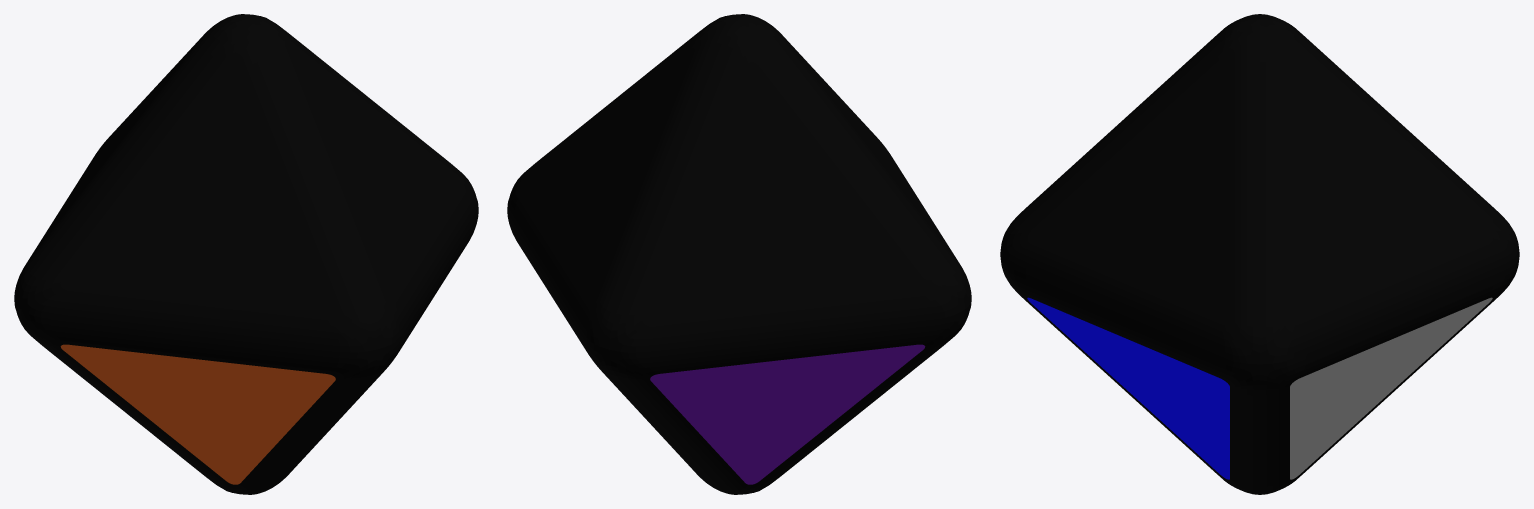
Rendered from down.fbx.
3 views of the same model, side by side, from view 1: azimuth 30°, elevation 25°; view 2: azimuth 150°, elevation 25°; view 3: azimuth 270°, elevation 25° (orthographic).
Visible parts, largest first — view 1: down; view 2: down; view 3: down.
Part boxes in pixels (x1,y1,x2,y2): down: (14, 14, 478, 494); down: (507, 14, 971, 494); down: (1000, 14, 1519, 494).
Size of the model in its own units: 174 by 174 by 174.
